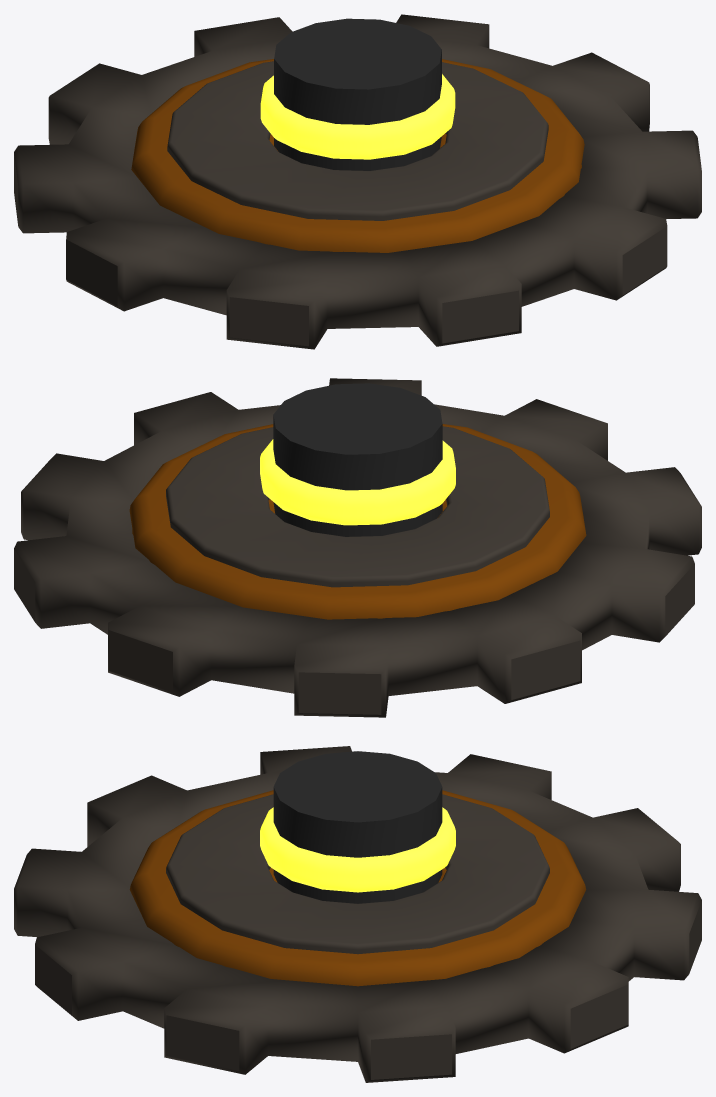
The model's file is Подставка.fbx.
The picture shows the model from 3 angles, top to bottom: view 1: azimuth 30°, elevation 25°; view 2: azimuth 150°, elevation 25°; view 3: azimuth 270°, elevation 25°; orthographic projection.
Visible parts, largest first — view 1: Шестеренушка, Cylinder_1, Cylinder_5; view 2: Шестеренушка, Cylinder_1, Cylinder_5; view 3: Шестеренушка, Cylinder_1, Cylinder_5.
Part boxes in pixels (x1=…): Шестеренушка: x1=14, y1=14, x2=701, y2=349; Cylinder_1: x1=274, y1=18, x2=441, y2=170; Cylinder_5: x1=260, y1=74, x2=455, y2=159; Шестеренушка: x1=14, y1=378, x2=701, y2=717; Cylinder_1: x1=273, y1=383, x2=442, y2=536; Cylinder_5: x1=260, y1=439, x2=455, y2=525; Шестеренушка: x1=14, y1=746, x2=701, y2=1082; Cylinder_1: x1=273, y1=751, x2=442, y2=903; Cylinder_5: x1=260, y1=807, x2=455, y2=892.
Size of the model in its own units: 213 by 60.78 by 213.
